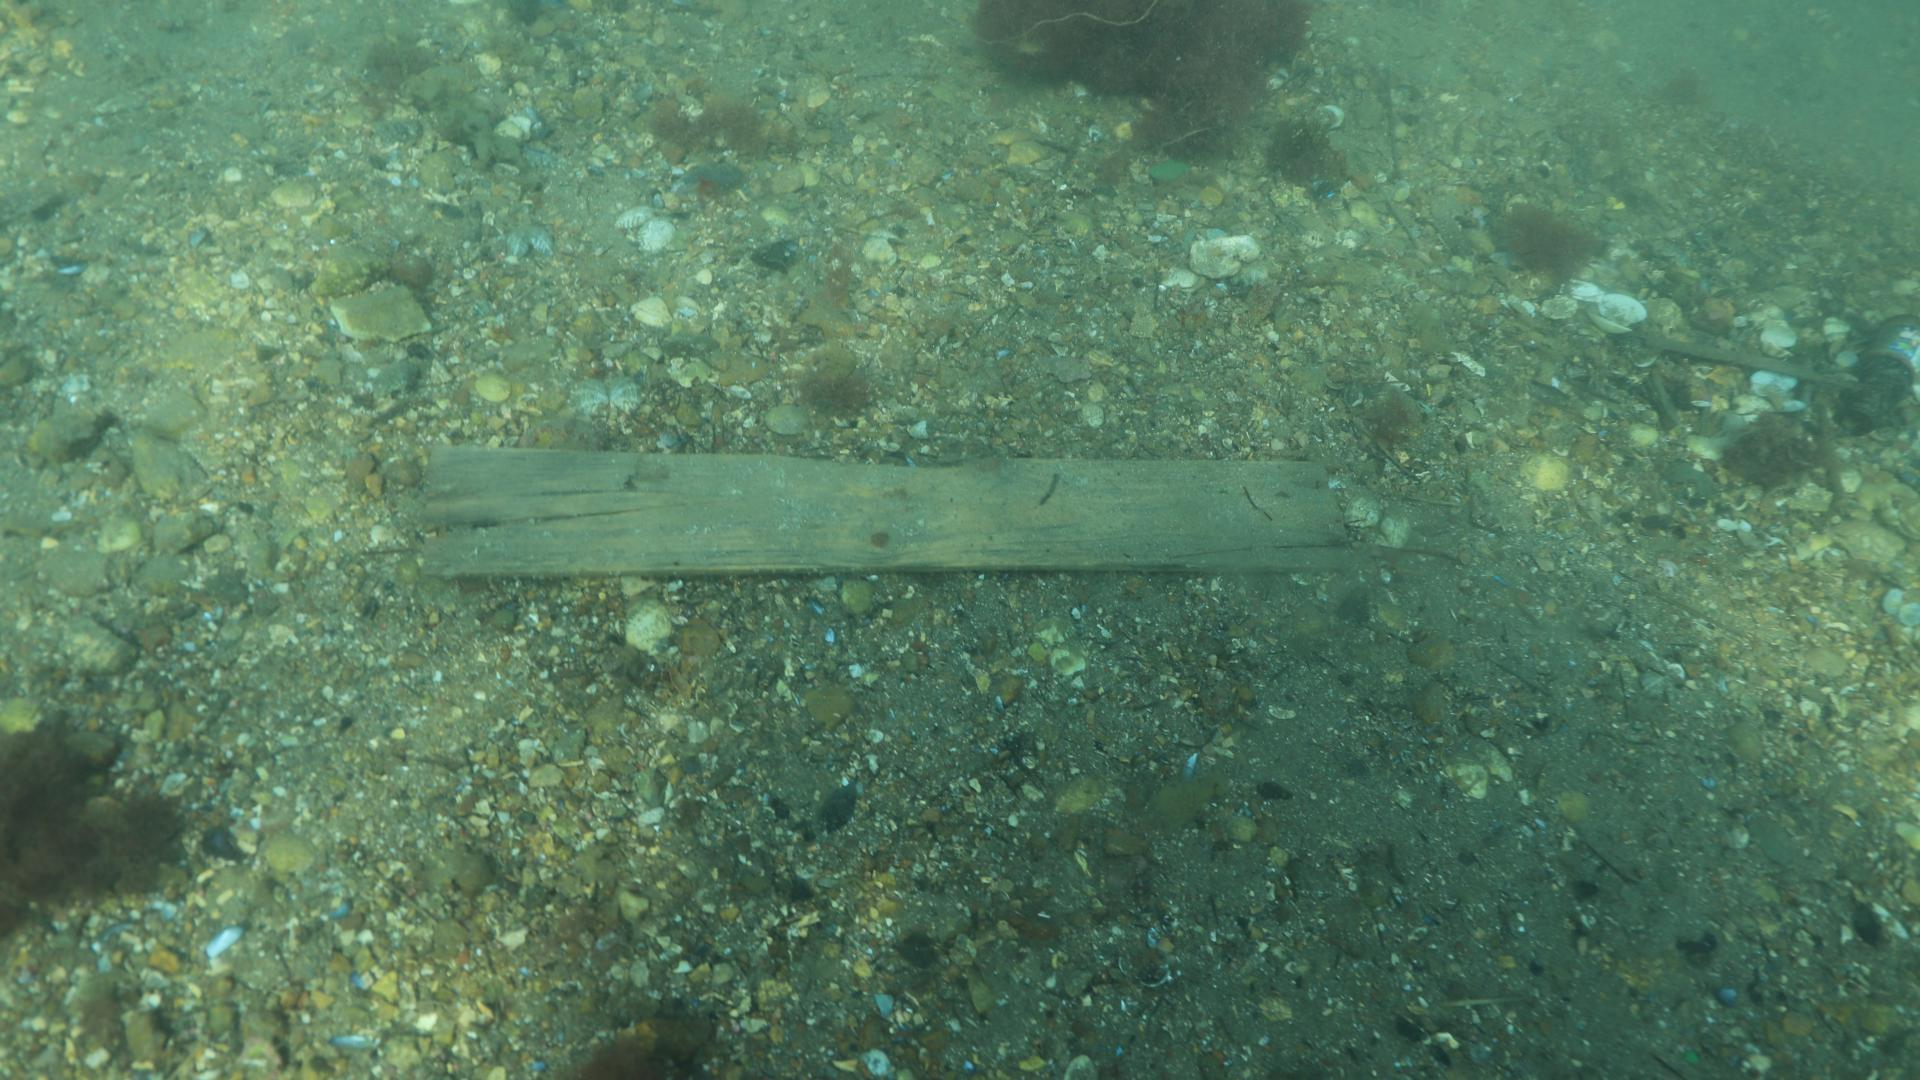wood: (414, 434, 1358, 584)
